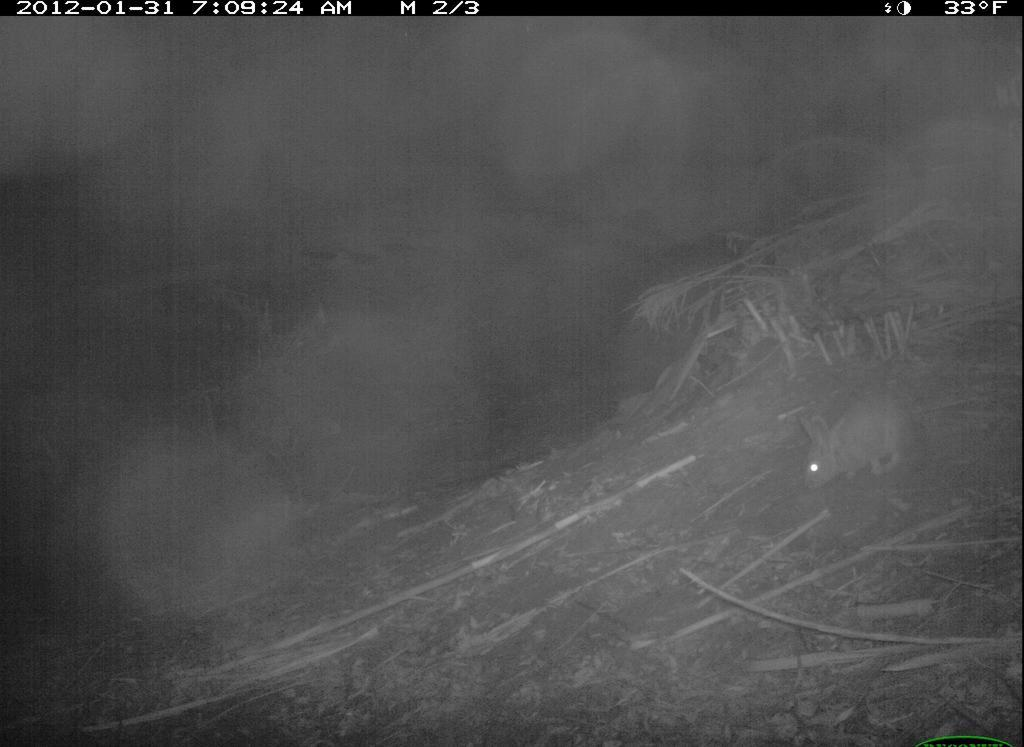rabbit: (789, 392, 921, 502)
